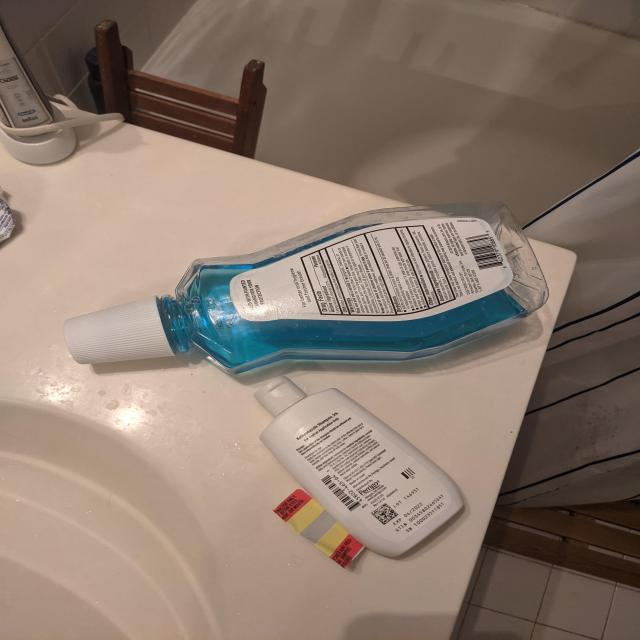litter: (65, 199, 545, 367), (253, 380, 469, 557), (271, 489, 362, 566)
